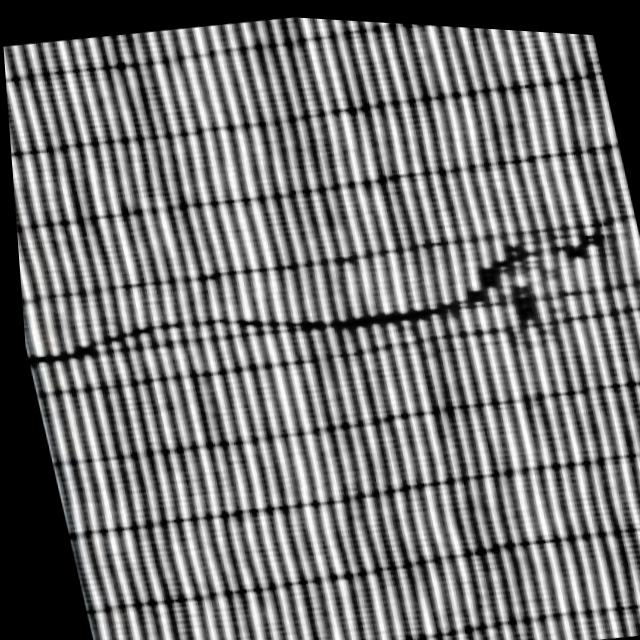Stitch: (244, 178, 640, 387)
